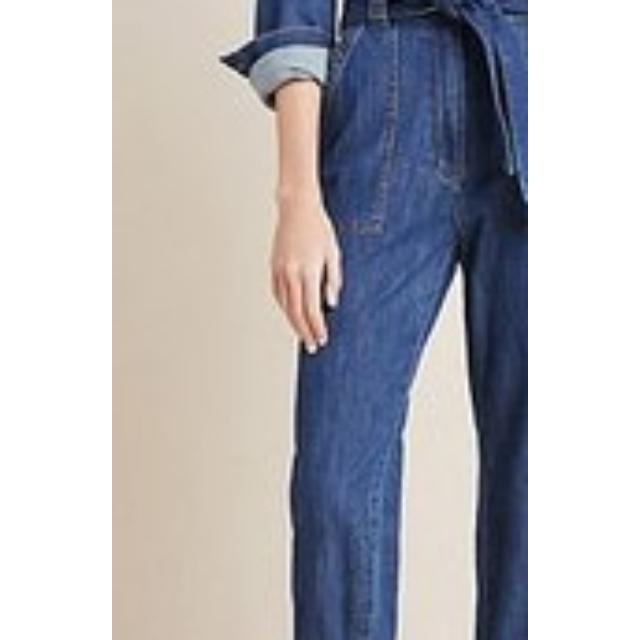denim: (265, 0, 529, 640)
